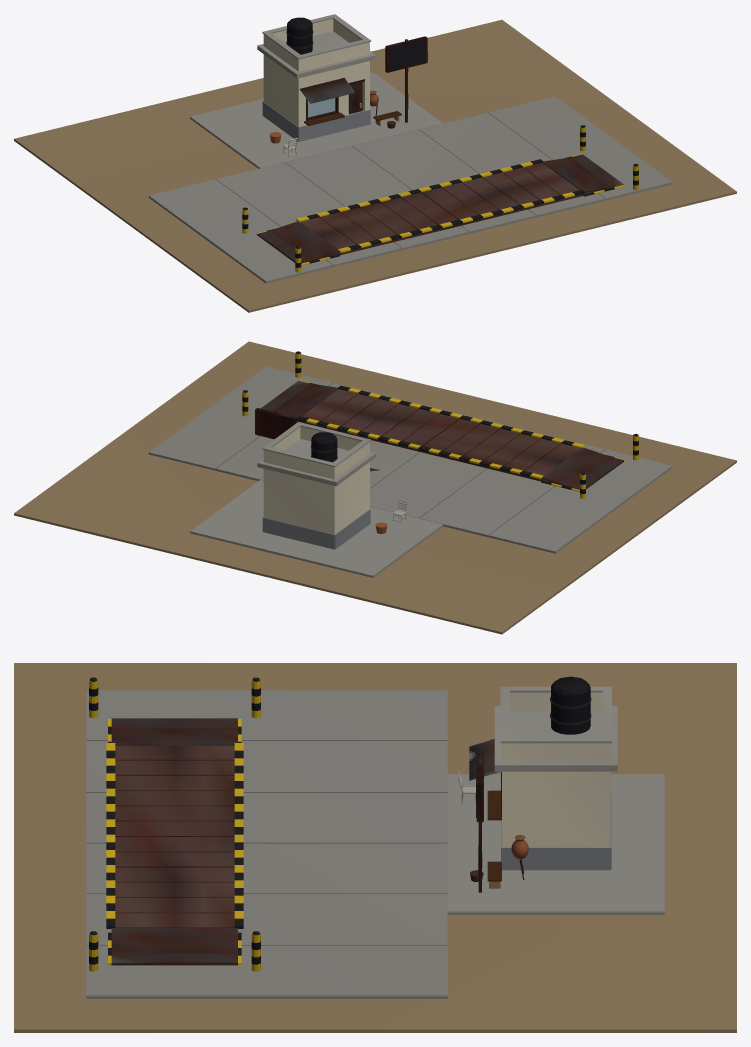
File: dharam_kanta_v2.glb
3 views of the same model, one above another, from view 1: azimuth 30°, elevation 25°; view 2: azimuth 150°, elevation 25°; view 3: azimuth 270°, elevation 25° (orthographic). The views are drawn at different scales.
Visible parts, largest first — view 1: hb_main, hb_metal, hb_tin; view 2: hb_main, hb_metal; view 3: hb_main, hb_metal, hb_props, hb_tin.
Boxes of the visible parts, x1=… form: hb_main: x1=14, y1=14, x2=736, y2=312; hb_metal: x1=257, y1=36, x2=623, y2=263; hb_tin: x1=299, y1=77, x2=354, y2=103; hb_main: x1=14, y1=341, x2=736, y2=634; hb_metal: x1=255, y1=380, x2=623, y2=489; hb_main: x1=14, y1=663, x2=736, y2=1032; hb_metal: x1=111, y1=718, x2=524, y2=965; hb_props: x1=487, y1=790, x2=501, y2=888; hb_tin: x1=469, y1=738, x2=499, y2=780.
Bounding box in the file's own units: 24 × 4.88 × 20.
